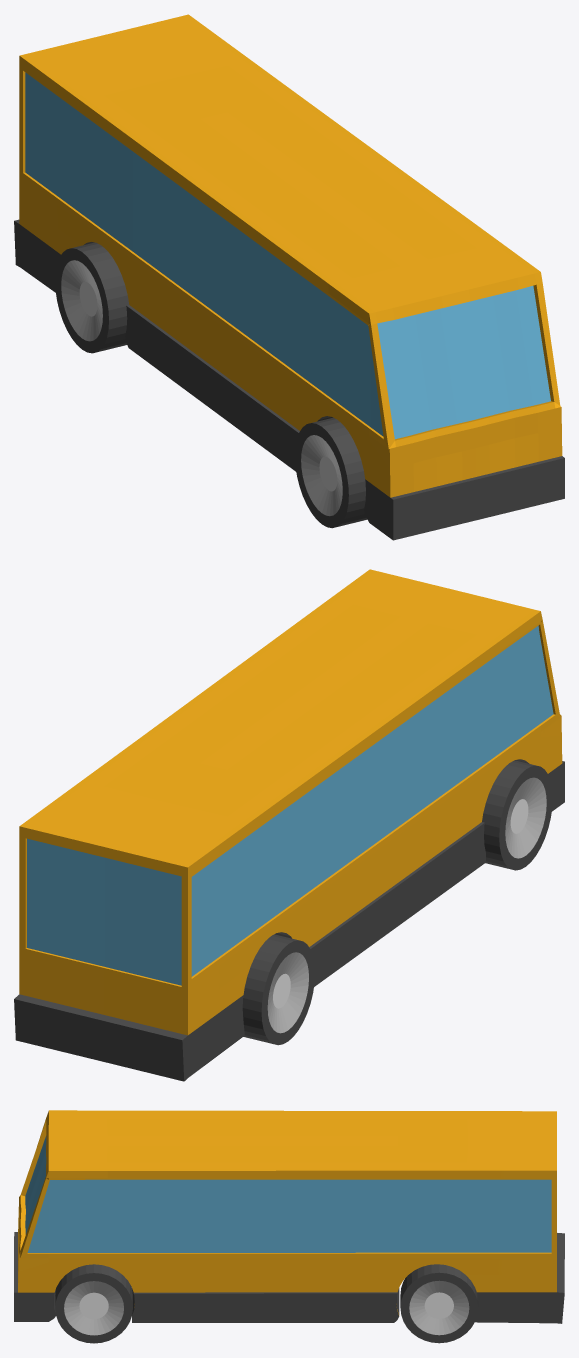
File: bus_yellow.fbx
3 renders of one model, top to bottom at view 1: azimuth 30°, elevation 25°; view 2: azimuth 150°, elevation 25°; view 3: azimuth 270°, elevation 25°, orthographic. The views are drawn at different scales.
Visible parts, largest first — view 1: Cube.011, Cylinder.038, Cylinder.041; view 2: Cube.011, Cylinder.038, Cylinder.041; view 3: Cube.011, Cylinder.039, Cylinder.040.
Boxes of the visible parts, x1,y1,x2,y2 form: Cube.011: (14, 14, 564, 540); Cylinder.038: (55, 242, 129, 353); Cylinder.041: (295, 417, 367, 528); Cube.011: (14, 569, 564, 1081); Cylinder.038: (242, 934, 314, 1045); Cylinder.041: (482, 760, 552, 870); Cube.011: (14, 1110, 564, 1323); Cylinder.039: (55, 1264, 132, 1343); Cylinder.040: (400, 1264, 478, 1343).
Bounding box in the file's own units: 92.15 × 97.12 × 293.
